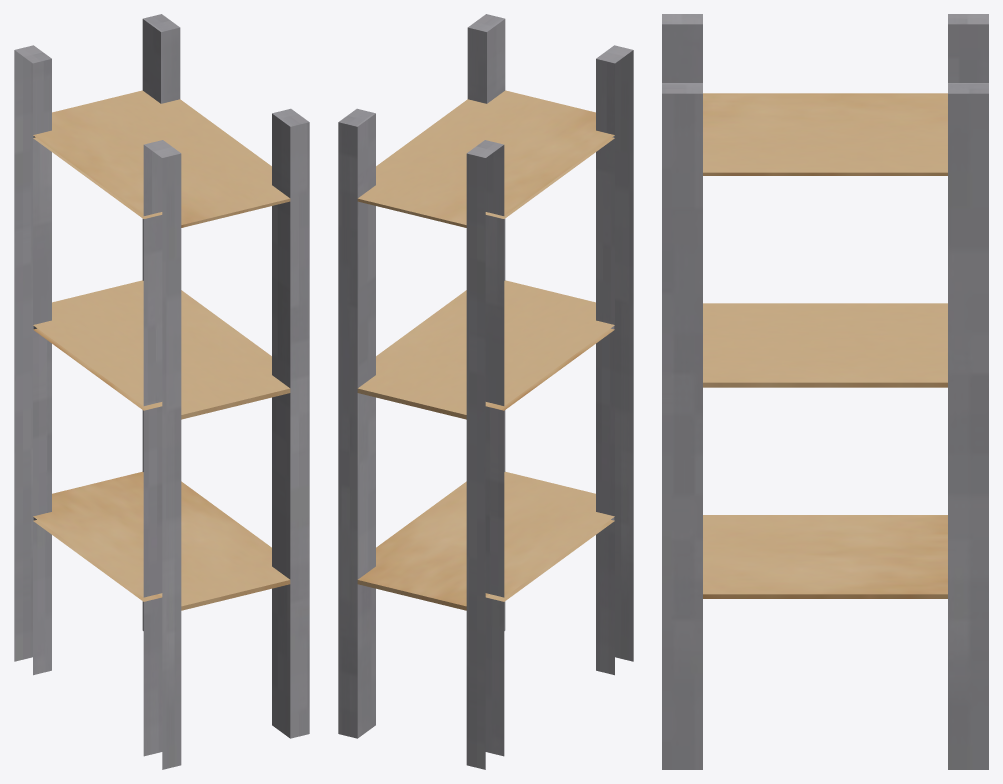
File: shelves.fbx
3 views of the same model, side by side, from view 1: azimuth 30°, elevation 25°; view 2: azimuth 150°, elevation 25°; view 3: azimuth 270°, elevation 25° (orthographic). The views are drawn at different scales.
Visible parts, largest first — view 1: Plane.001; view 2: Plane.001; view 3: Plane.001.
Part boxes in pixels (x1,y1,x2,y2): Plane.001: (14, 14, 309, 769); Plane.001: (338, 14, 633, 769); Plane.001: (662, 14, 988, 769).
Bounding box in the file's own units: 50.3 × 200 × 87.39.
